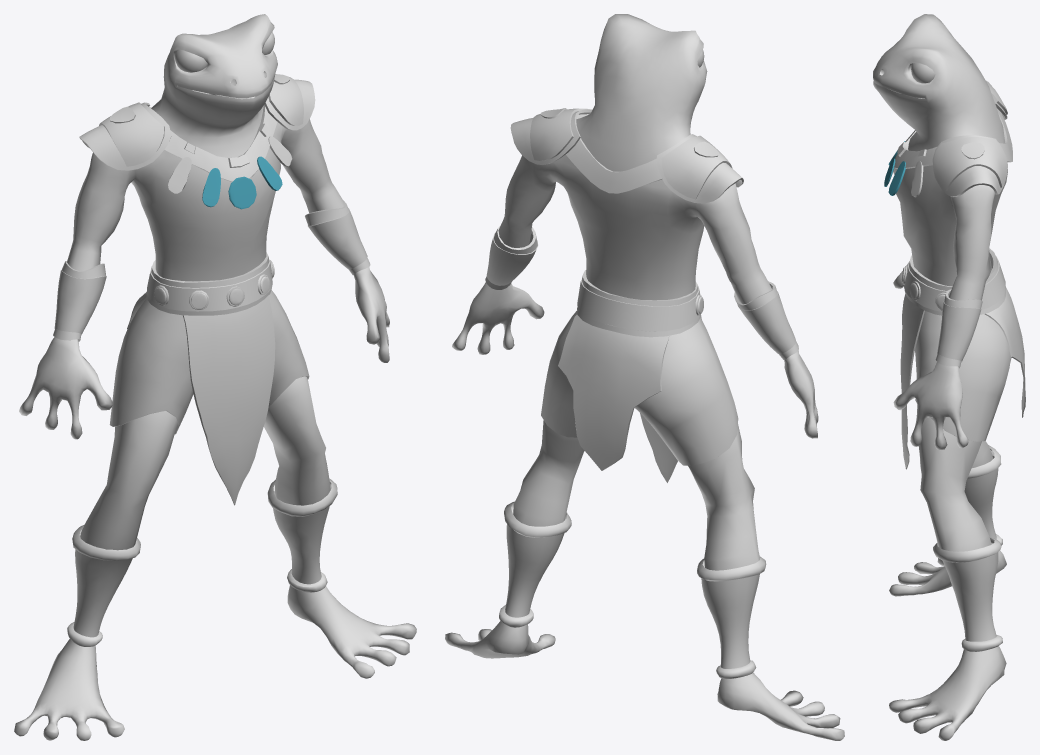
The model's file is frog_M_low_rescaled.fbx.
The picture shows the model from 3 angles, left to right: view 1: azimuth 30°, elevation 25°; view 2: azimuth 150°, elevation 25°; view 3: azimuth 270°, elevation 25°; orthographic projection. The views are drawn at different scales.
Parts seen in each view (by area): view 1: body_low, front_loincloth_low, pants_low, shin_guard_low, pauldron_low, armor_sleeves_low, belt_low, neck_accs_low, neck_piece_low, belt_small_low, eyes_low; view 2: body_low, pants_low, back_loincloth_low, shin_guard_low, pauldron_low, belt_low, armor_sleeves_low, neck_piece_low, front_loincloth_low; view 3: body_low, shin_guard_low, pants_low, pauldron_low, armor_sleeves_low, belt_low, front_loincloth_low, back_loincloth_low, neck_piece_low, neck_accs_low, eyes_low, shoulder_accs_low.
Part boxes in pixels (x1,y1,x2,y2): body_low: [14, 14, 416, 740]; front_loincloth_low: [183, 295, 275, 505]; pants_low: [109, 290, 309, 434]; shin_guard_low: [67, 478, 337, 646]; pauldron_low: [79, 77, 315, 170]; armor_sleeves_low: [53, 200, 370, 341]; belt_low: [146, 252, 272, 315]; neck_accs_low: [168, 136, 292, 209]; neck_piece_low: [149, 105, 277, 181]; belt_small_low: [154, 260, 274, 309]; eyes_low: [175, 32, 274, 72]; body_low: [445, 14, 844, 740]; pants_low: [541, 310, 738, 465]; back_loincloth_low: [558, 314, 669, 470]; shin_guard_low: [499, 501, 766, 678]; pauldron_low: [510, 108, 743, 203]; belt_low: [577, 270, 701, 337]; armor_sleeves_low: [485, 225, 798, 359]; neck_piece_low: [566, 114, 661, 193]; front_loincloth_low: [640, 316, 701, 482]; body_low: [873, 14, 1007, 740]; shin_guard_low: [933, 445, 1002, 651]; pants_low: [915, 311, 1011, 441]; pauldron_low: [932, 80, 1007, 196]; armor_sleeves_low: [935, 289, 982, 368]; belt_low: [904, 248, 1005, 315]; front_loincloth_low: [900, 294, 924, 469]; back_loincloth_low: [984, 287, 1025, 417]; neck_piece_low: [894, 108, 1012, 169]; neck_accs_low: [884, 141, 923, 197]; eyes_low: [911, 63, 935, 83]; shoulder_accs_low: [961, 142, 984, 159].
Size of the model in its own units: 49.4 by 78.96 by 17.59.
